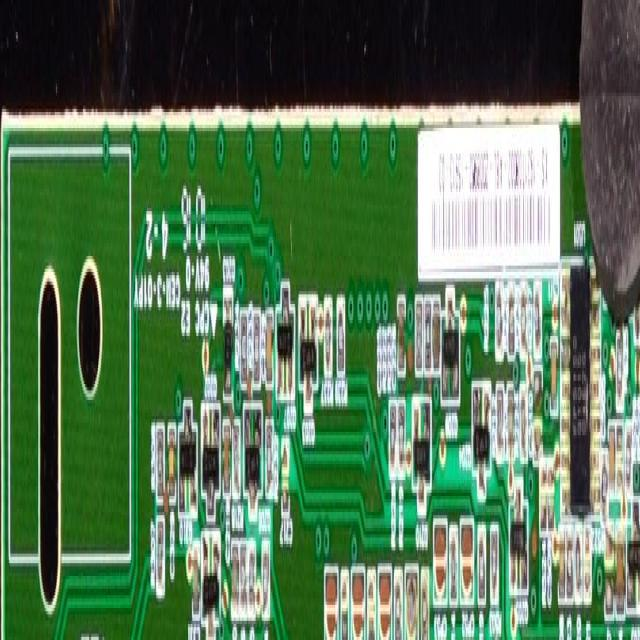IC: (560, 204, 602, 508)
capacitor: (434, 505, 448, 640), (461, 505, 473, 640), (281, 435, 293, 555), (325, 557, 340, 640), (405, 553, 419, 640), (378, 560, 393, 640), (352, 557, 366, 640), (395, 285, 407, 377), (614, 522, 624, 625), (547, 445, 555, 549), (606, 515, 613, 631), (607, 413, 616, 502), (192, 534, 200, 633), (168, 410, 176, 508), (432, 291, 441, 378), (557, 515, 565, 608), (231, 534, 239, 624), (224, 413, 230, 512), (267, 307, 273, 386)
resistor: (490, 509, 501, 630), (478, 512, 488, 639), (154, 512, 166, 603), (324, 291, 334, 388), (336, 285, 346, 378), (154, 416, 164, 508), (533, 282, 543, 371), (494, 378, 504, 467), (450, 509, 458, 619), (412, 291, 422, 378), (239, 301, 249, 386), (614, 327, 624, 412), (584, 509, 592, 613), (262, 538, 271, 628), (506, 378, 514, 474), (398, 394, 406, 488), (252, 307, 261, 390), (493, 282, 502, 364), (388, 396, 396, 486), (575, 508, 582, 606), (249, 528, 256, 626), (424, 285, 431, 377), (520, 374, 527, 462), (567, 509, 573, 608), (422, 557, 429, 640), (368, 569, 376, 640), (625, 413, 632, 494), (395, 560, 402, 640), (520, 276, 527, 356), (241, 534, 247, 625), (341, 563, 348, 640), (540, 451, 546, 535), (91, 633, 101, 640), (80, 633, 89, 640)
transistor: (298, 285, 320, 453), (275, 269, 297, 430), (510, 477, 531, 635), (412, 397, 432, 549), (179, 384, 199, 525), (200, 397, 222, 525), (470, 374, 492, 498), (243, 397, 264, 524), (442, 282, 460, 429), (202, 528, 223, 640), (627, 490, 640, 627), (222, 282, 234, 400)
